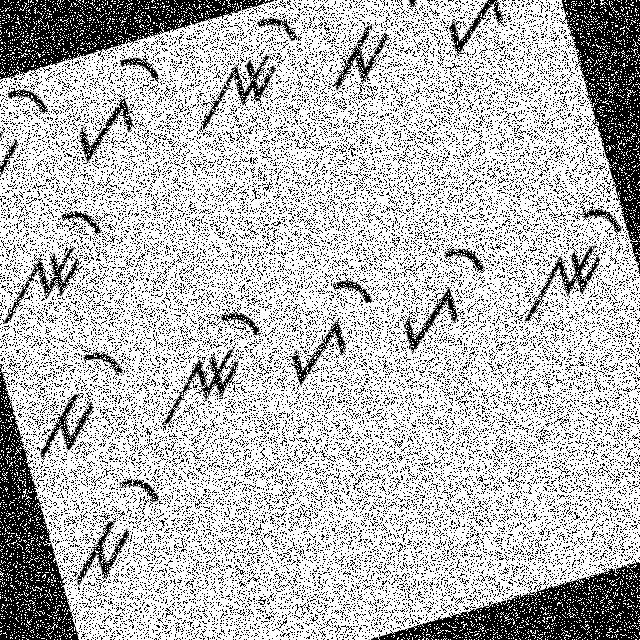hay: (50, 39, 182, 174), (260, 266, 396, 396), (380, 235, 506, 367), (425, 0, 552, 57)
mbay: (41, 462, 187, 598), (8, 336, 146, 466), (303, 0, 440, 105), (0, 71, 75, 216)
nday: (171, 5, 324, 146), (491, 193, 639, 332), (133, 294, 282, 432), (0, 190, 124, 330)
